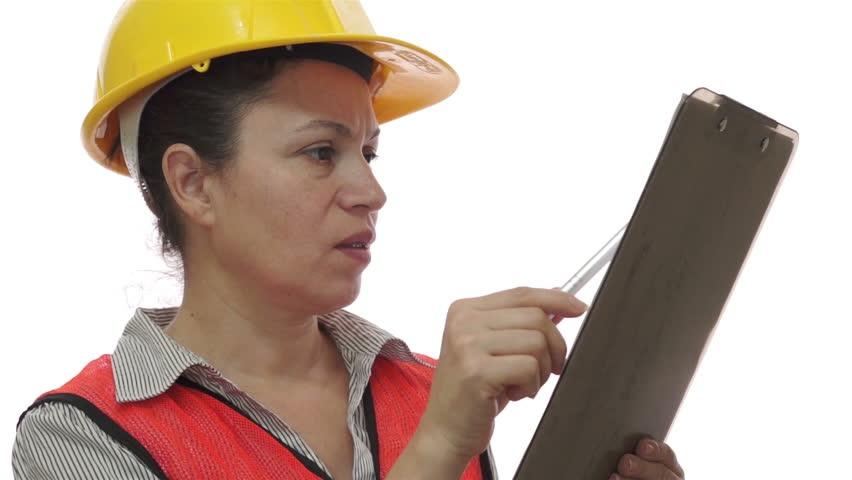helmet: (70, 0, 461, 173)
wear: (13, 313, 493, 480)
